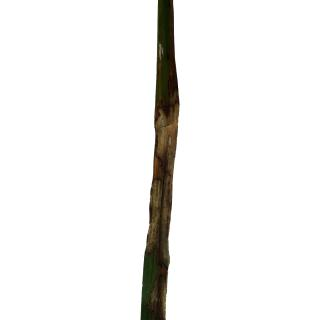Hawar-Daun: (151, 93, 181, 166), (147, 167, 173, 251), (157, 261, 173, 316)
